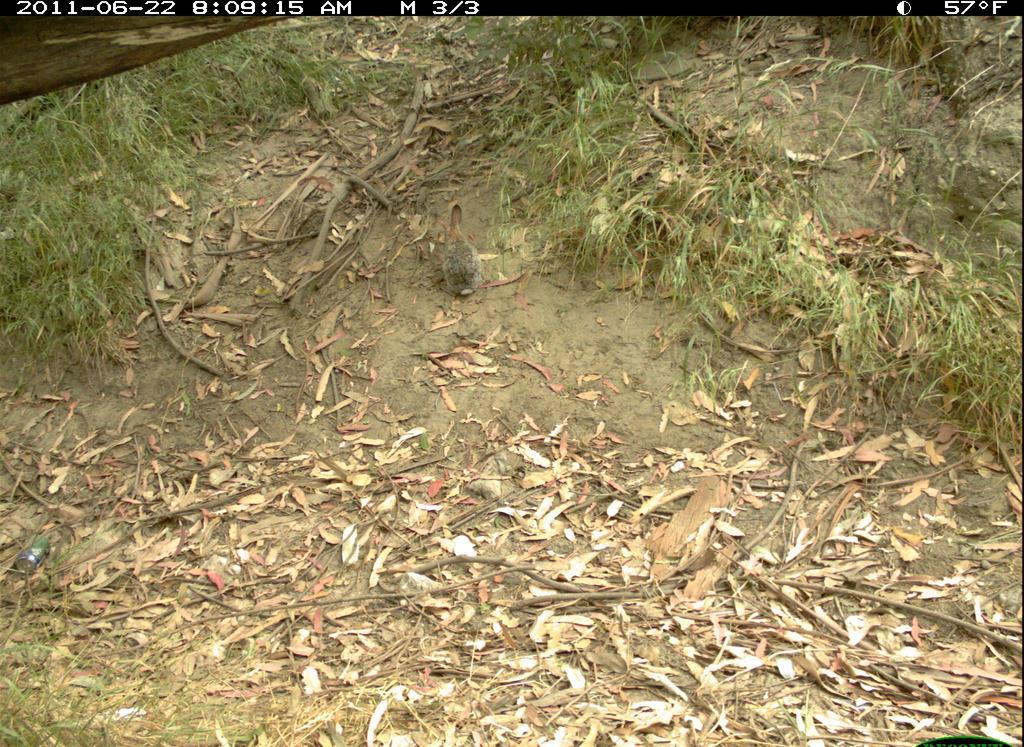rabbit: (417, 196, 489, 296)
